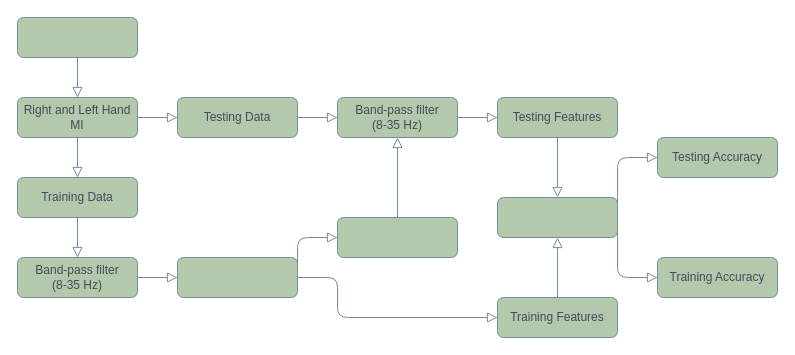
Image size: 795x355. Some labels were removed from this diagram. Here are the shapes that lost their labels. From the top down, the centre of each, then its label:
At pixel 77 37: "Raw EEG data".
At pixel 397 237: "6 eigenvectors of projection matrix".
At pixel 557 217: "FLD".
At pixel 237 277: "CSP".
